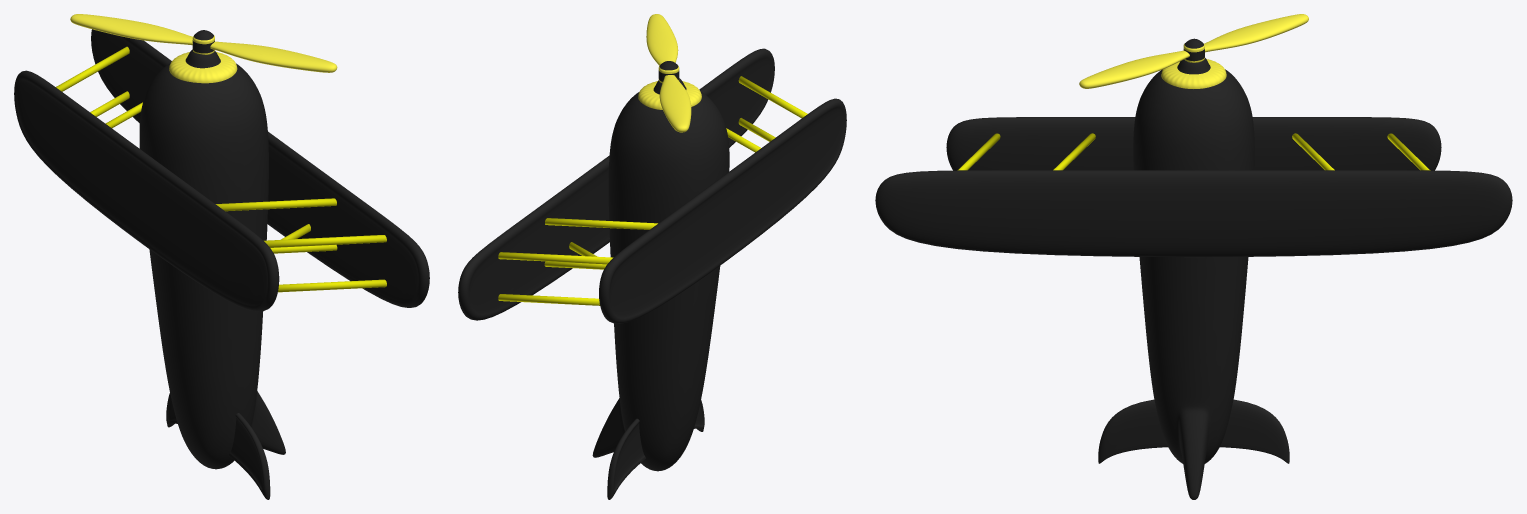
Rendered from tin-plane-meshopt.glb.
3 views of the same model, side by side, from view 1: azimuth 30°, elevation 25°; view 2: azimuth 150°, elevation 25°; view 3: azimuth 270°, elevation 25° (orthographic). The views are drawn at different scales.
Parts seen in each view (by area): view 1: object 1, 立方体.003; view 2: object 1, 立方体.003; view 3: object 1, 立方体.003.
Boxes of the visible parts, x1=… form: object 1: x1=14, y1=29, x2=429, y2=499; 立方体.003: x1=70, y1=14, x2=337, y2=72; object 1: x1=458, y1=48, x2=846, y2=499; 立方体.003: x1=646, y1=14, x2=691, y2=132; object 1: x1=875, y1=58, x2=1512, y2=499; 立方体.003: x1=1079, y1=14, x2=1308, y2=88.
Size of the model in its own units: 2.38 by 6.4 by 8.74.
